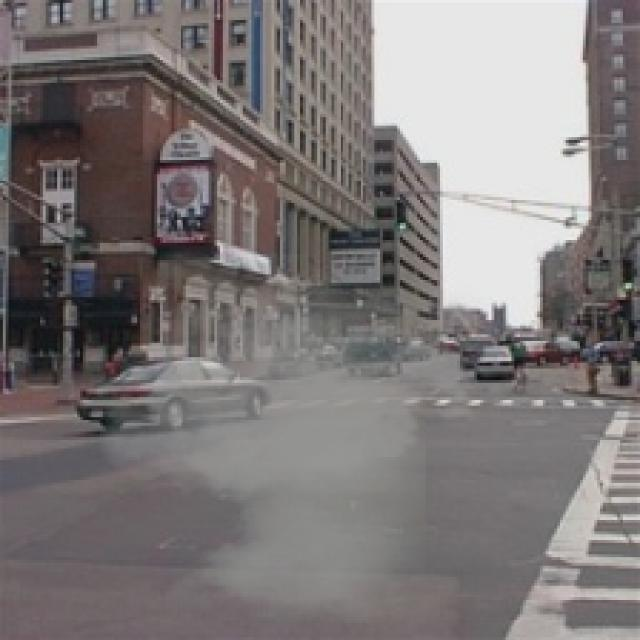Smoke: (83, 251, 500, 623)
